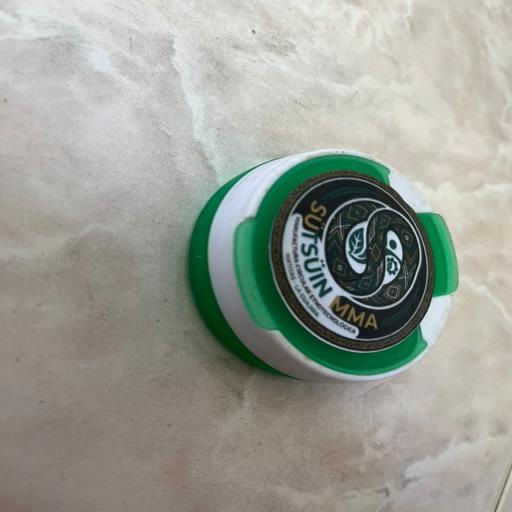HDPE: (160, 134, 487, 412)
